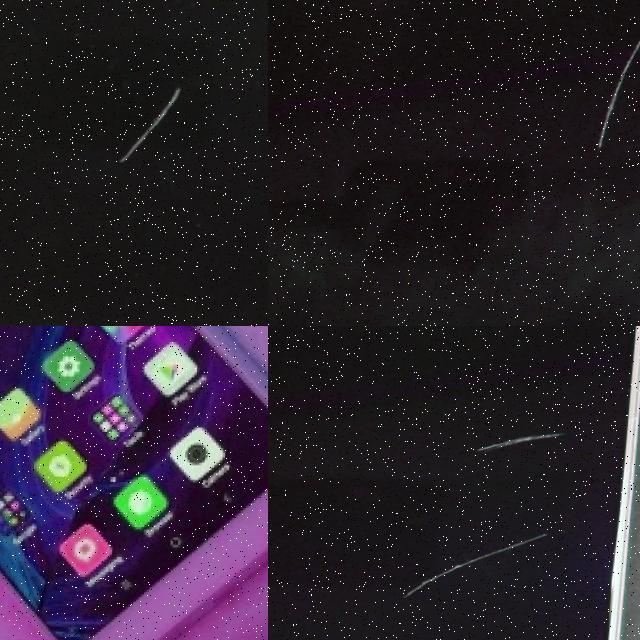scratch: (398, 528, 562, 605), (107, 83, 197, 174), (600, 19, 640, 153), (475, 428, 568, 457)
